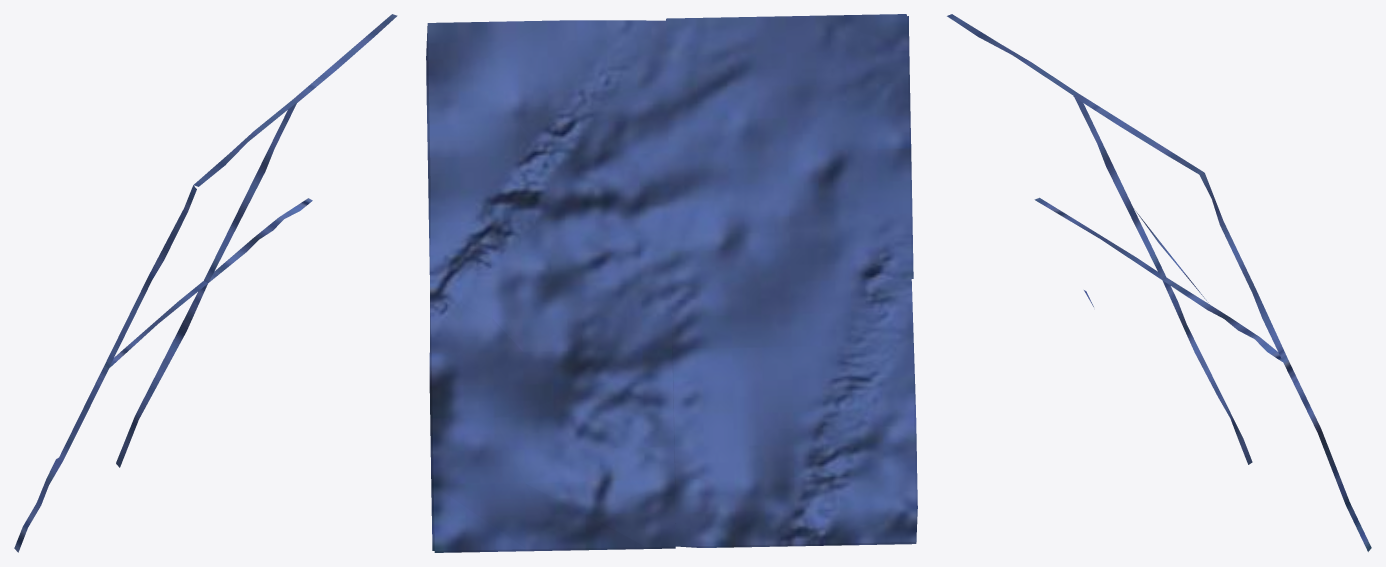
The picture shows the model from 3 angles, left to right: view 1: azimuth 30°, elevation 25°; view 2: azimuth 150°, elevation 25°; view 3: azimuth 270°, elevation 25°; orthographic projection. The views are drawn at different scales.
Size of the model in its own units: 38816 by 36411 by 33175.
1 material, 1 textured.
